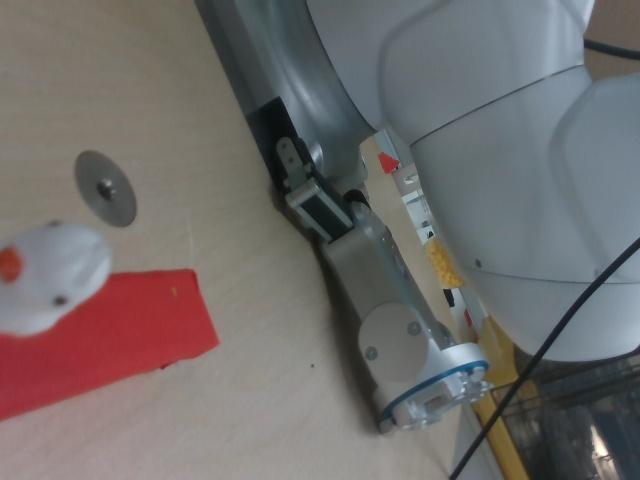w_duck: (0, 216, 116, 343)
